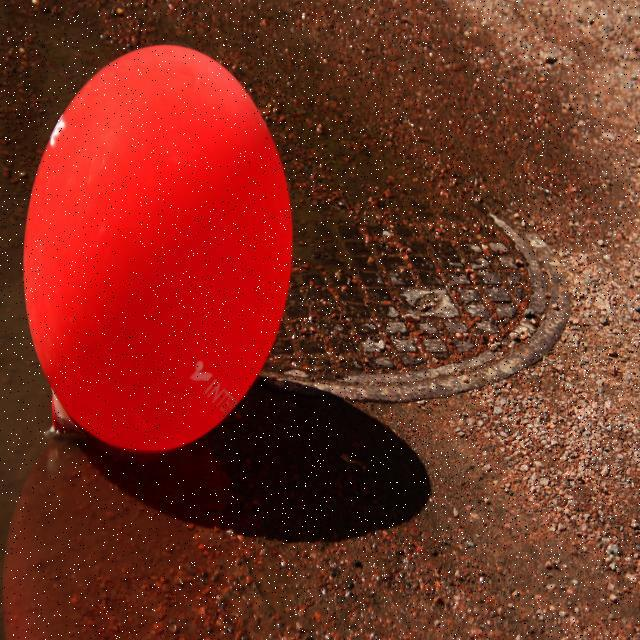red: (21, 43, 294, 453)
